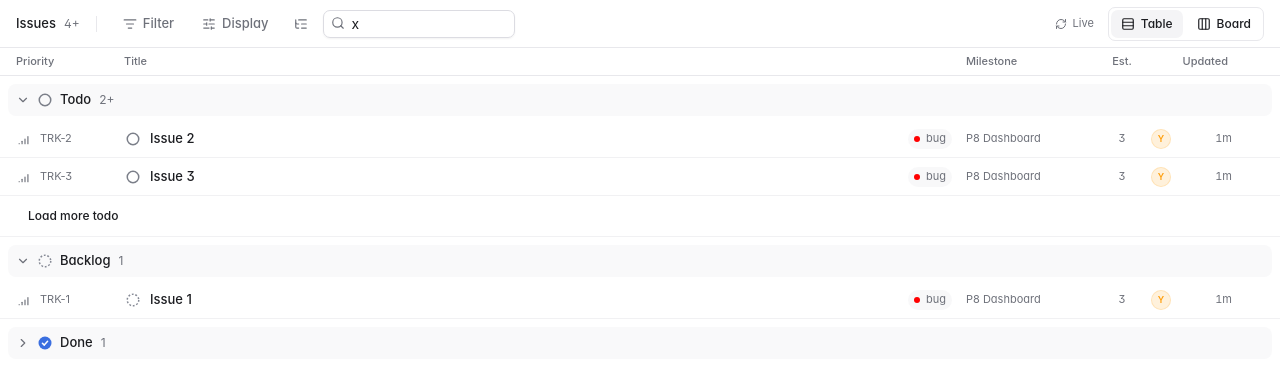
it: IssuesView table › loads more of one group through the cursor
Click the button "Load more todo".
click(73, 216)  # box 16,202 -> 130,230
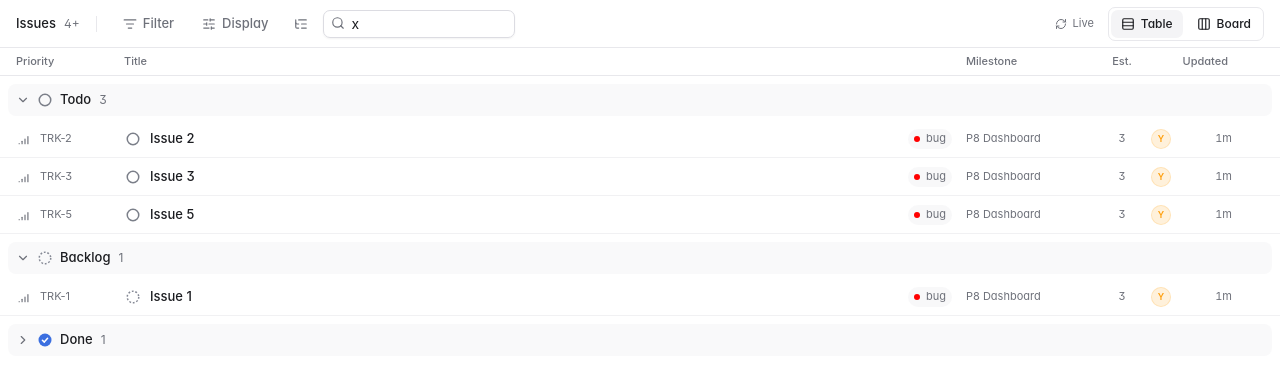
Expected: the link "Issue 5" is shown, 150,206 -> 194,222
Expected: the text with test id "count-todo" reads "3", 99,92 -> 107,107
Expected: the button "Load more" is gone
